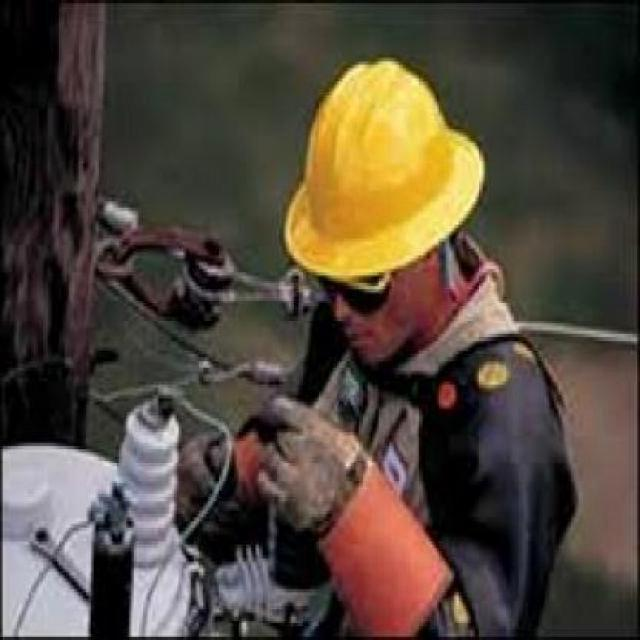Hard_hat: (281, 58, 489, 287)
